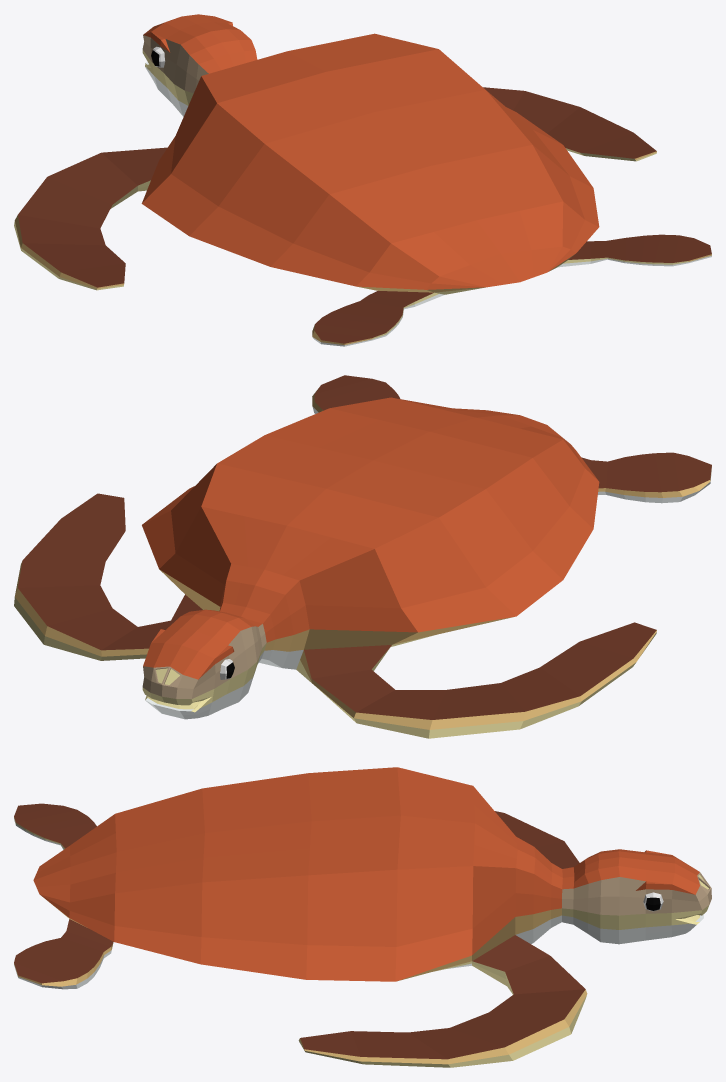
Rendered from seaturtle.fbx.
3 views of the same model, one above another, from view 1: azimuth 30°, elevation 25°; view 2: azimuth 150°, elevation 25°; view 3: azimuth 270°, elevation 25° (orthographic). The views are drawn at different scales.
Parts seen in each view (by area): view 1: Cube; view 2: Cube; view 3: Cube.
Boxes of the visible parts, <box> form: Cube: <box>14,14,711,346</box>; Cube: <box>14,375,711,738</box>; Cube: <box>14,767,711,1067</box>.
Bounding box in the file's own units: 2520 × 572 × 2787.
